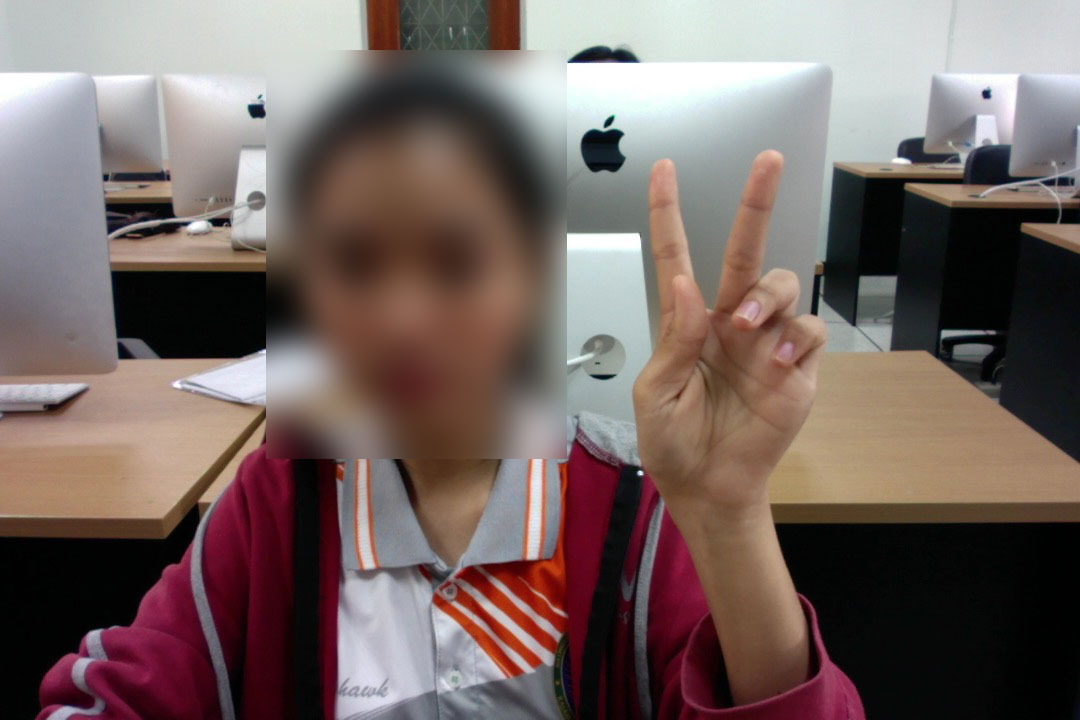ko: (630, 137, 844, 544)
